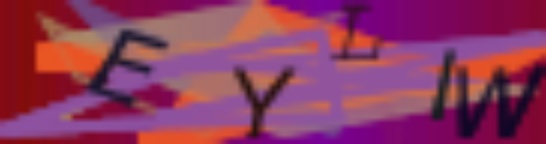E: (88, 25, 170, 108)
I: (426, 46, 457, 127)
L: (334, 1, 384, 63)
W: (453, 63, 546, 142)
Y: (229, 62, 299, 142)
